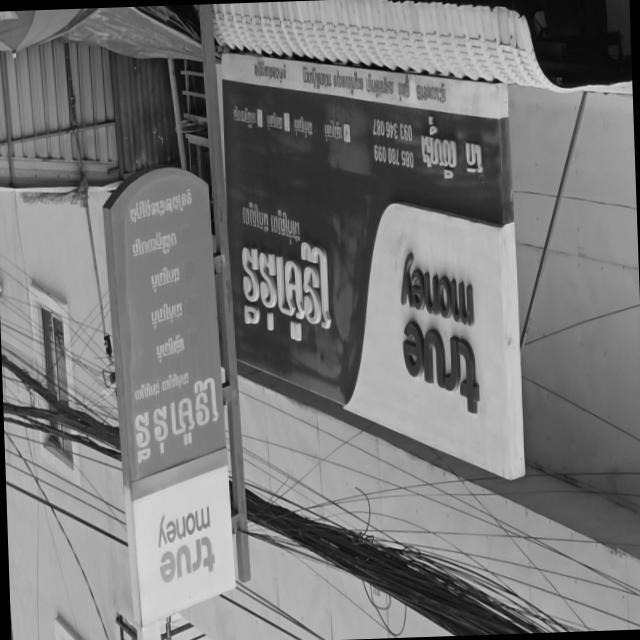1: (415, 112, 490, 189), (238, 194, 306, 247), (131, 368, 191, 408)
Yolov11kh: (236, 229, 339, 352), (131, 372, 225, 470), (126, 181, 194, 228), (128, 224, 179, 265), (148, 295, 185, 331), (154, 330, 188, 366), (149, 260, 182, 296), (231, 96, 257, 132), (319, 113, 343, 144), (292, 113, 314, 142), (263, 108, 284, 135)
